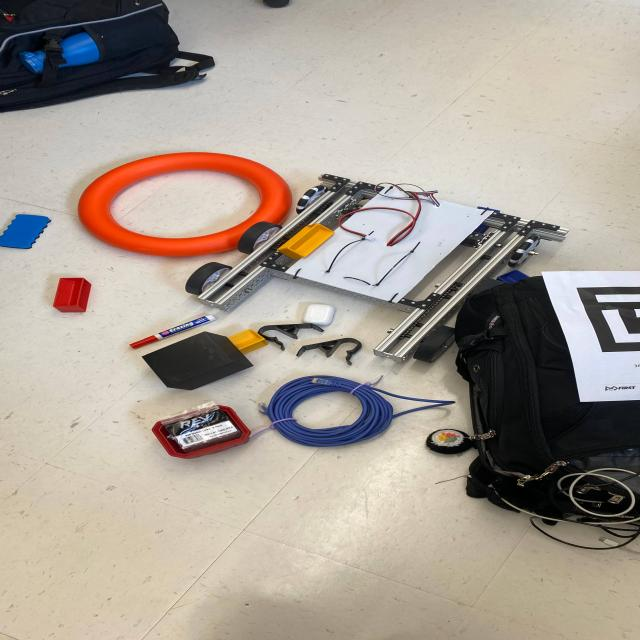blue-specimen: (497, 270, 529, 283)
red-specimen: (53, 278, 91, 312)
yellow-specimen: (279, 223, 334, 259), (228, 329, 268, 354)
